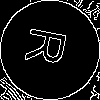R: (25, 25, 76, 70)
